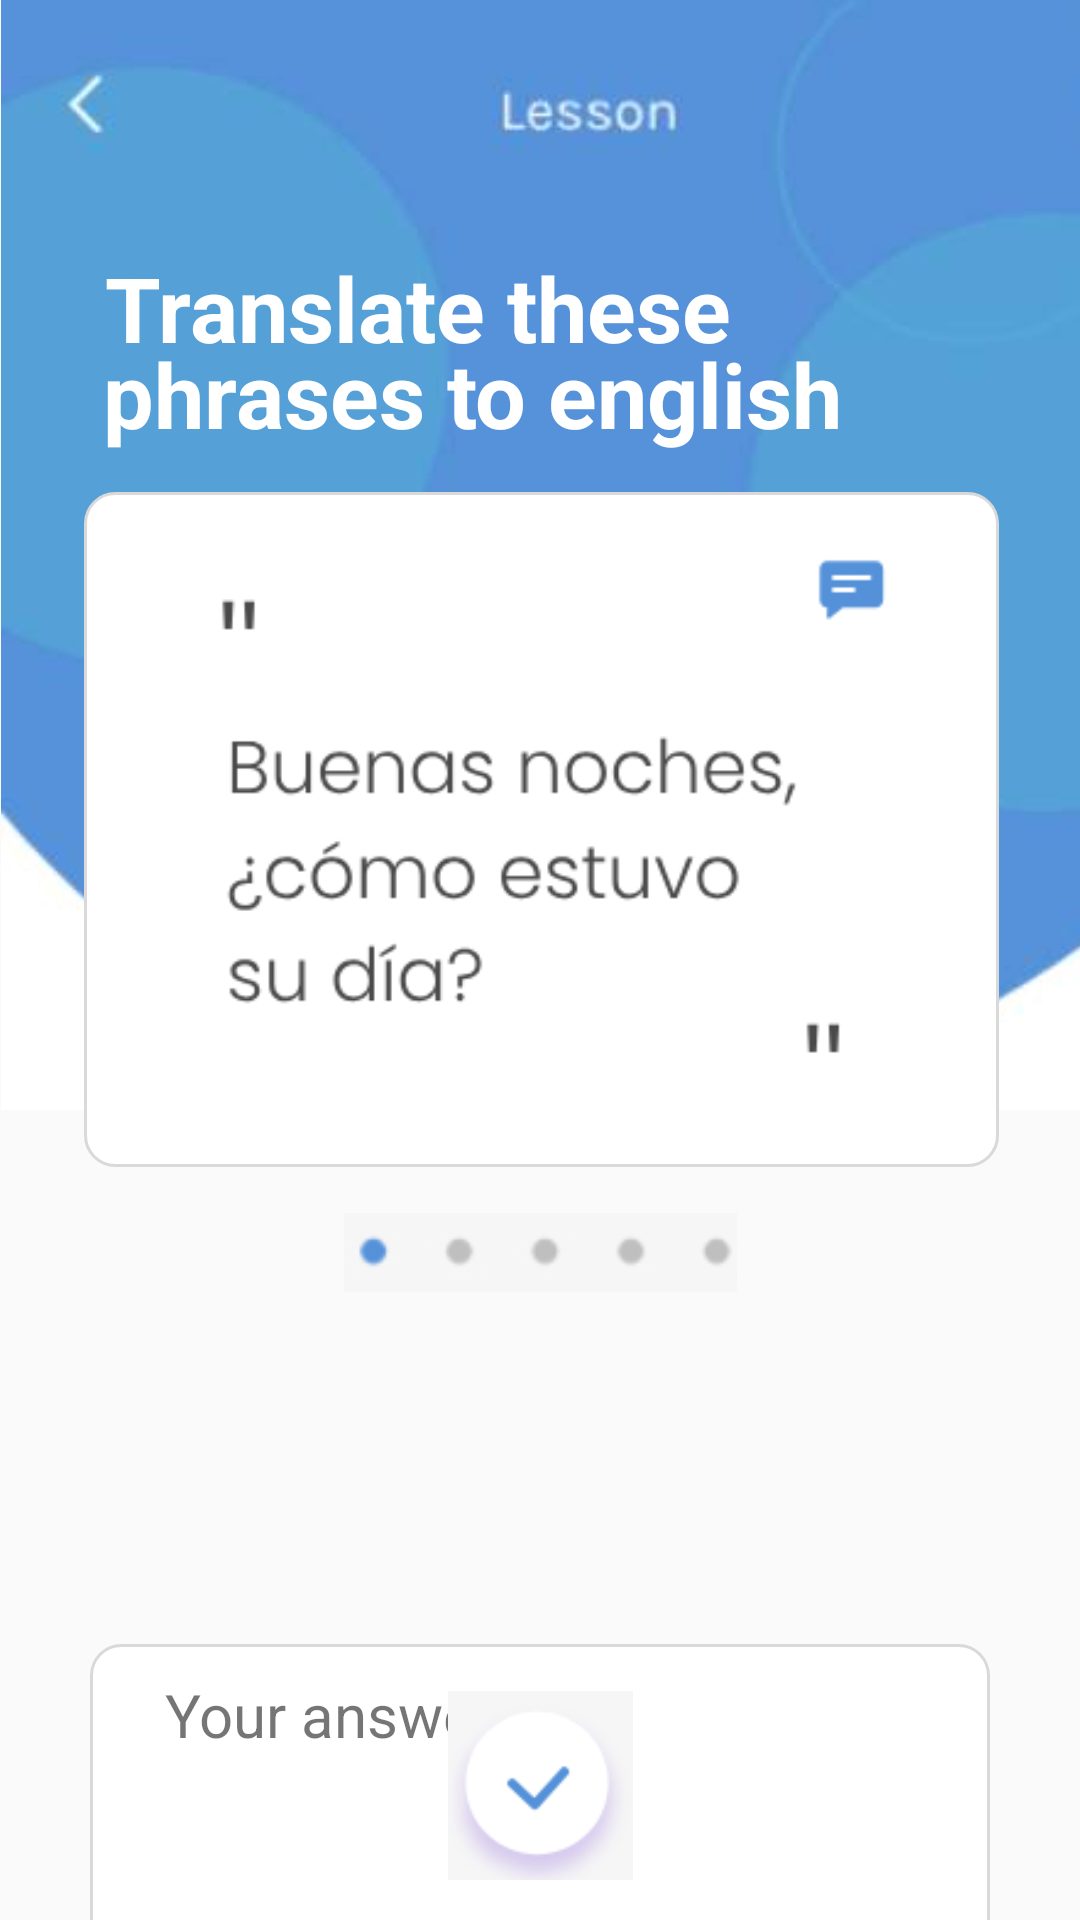

Locate icon controls on the screen. Image size 1080*1920, boxes as [x1=x1, y1=y1, x2=x2, y2=y2].
boton: [x1=445, y1=1713, x2=615, y2=1876]
